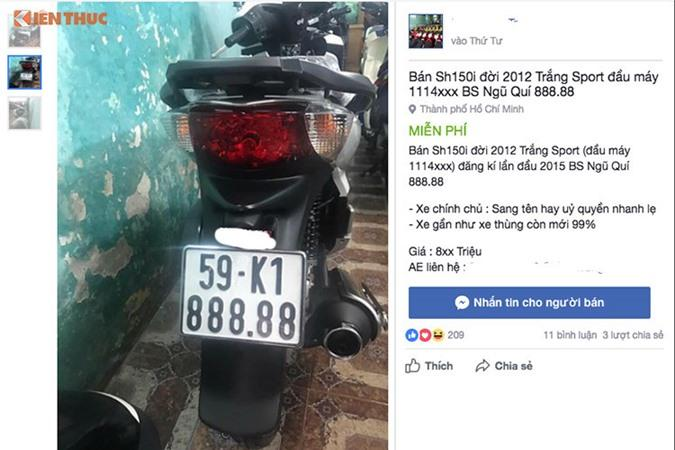numplate: (174, 246, 303, 345)
